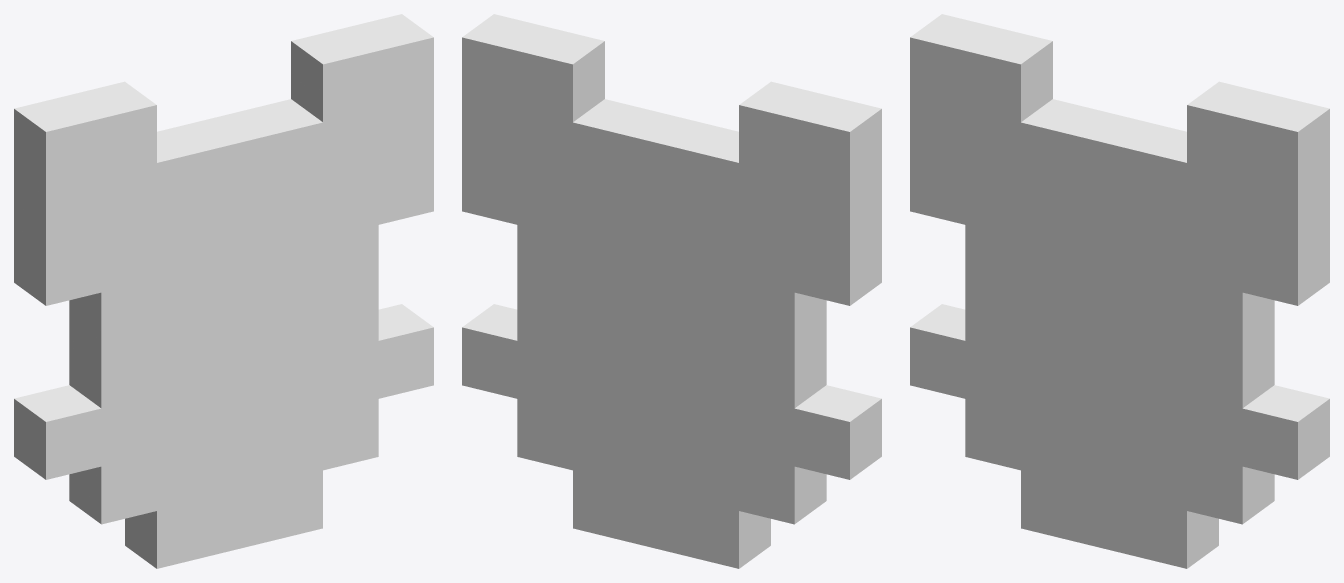
Rendered from Breastplate-White.vox.obj.
3 renders of one model, left to right at view 1: azimuth 30°, elevation 25°; view 2: azimuth 150°, elevation 25°; view 3: azimuth 330°, elevation 25°, orthographic.
Size of the model in its own units: 0.7 by 0.8 by 0.1.
1 material, 1 textured.
